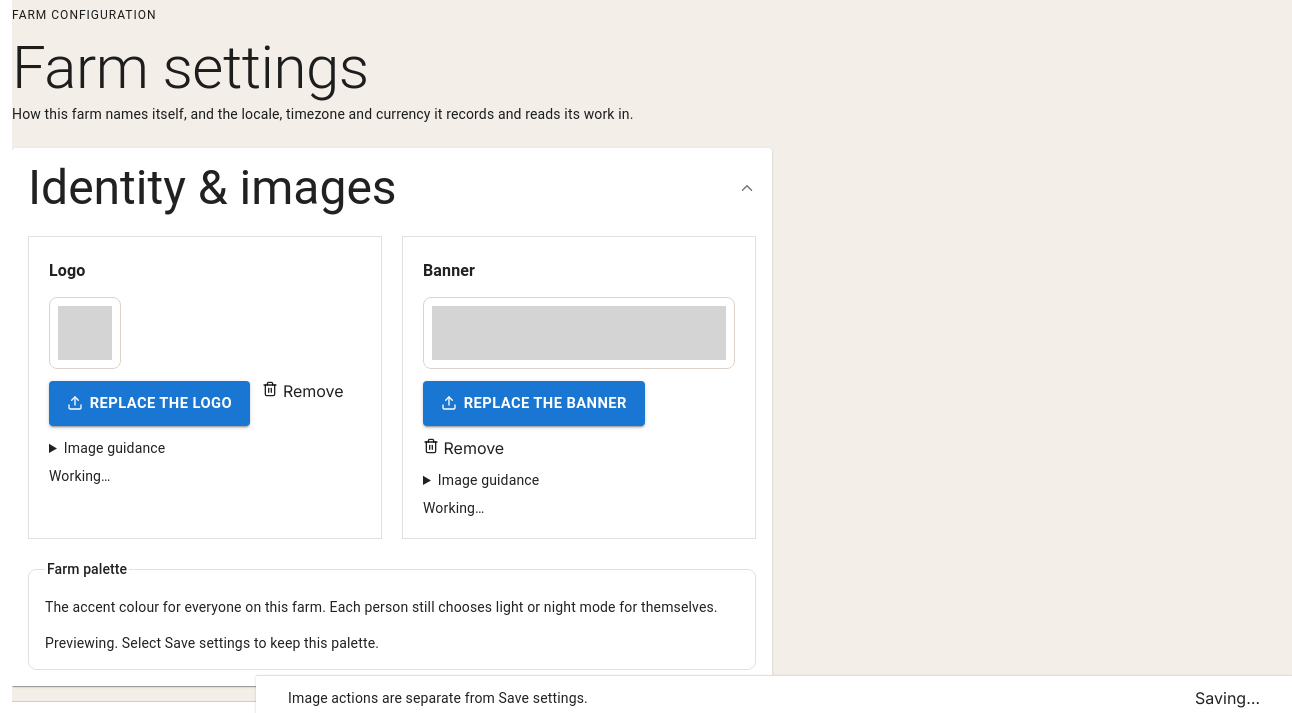
Test case: SettingsPage — persistent actions and image guidance › folds each image's existing help under a closed Image guidance disclosure
Click the 1st heading "Image guidance".
click(115, 448)  # box [64,440,165,456]
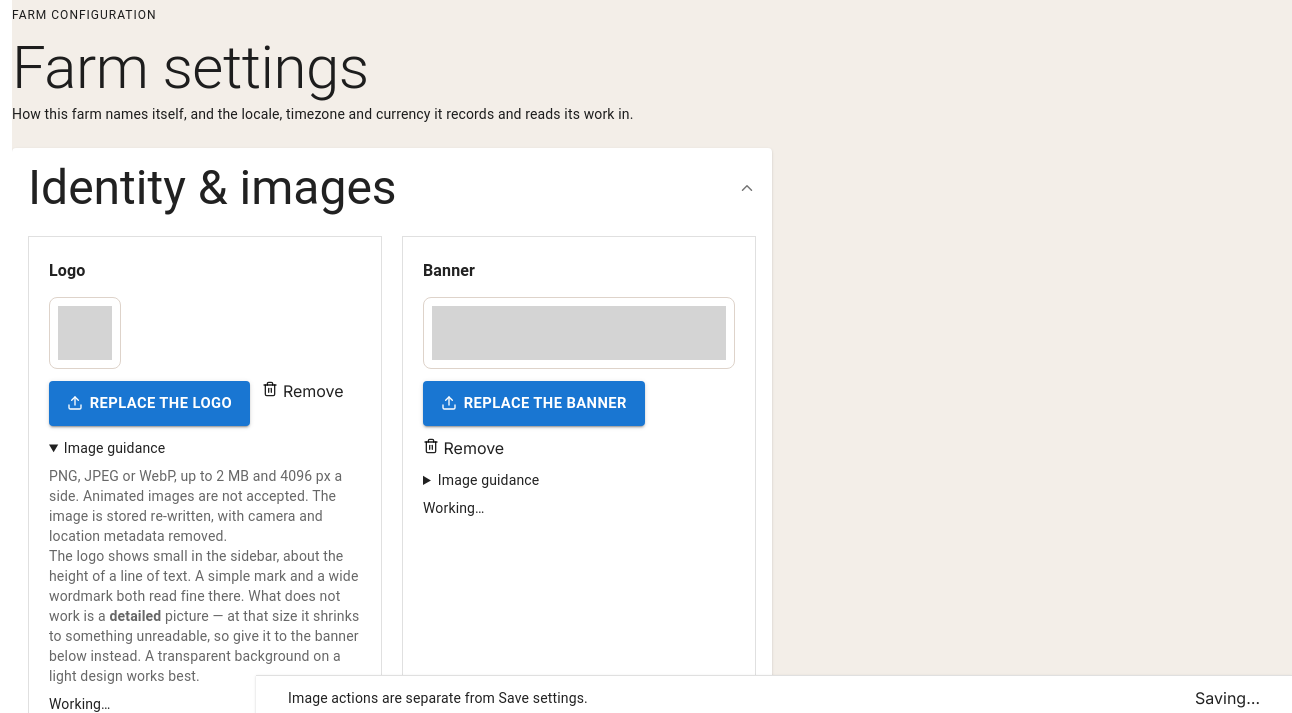
Expected: the text "up to 2 MB and 4096" is shown, [49,468,342,544]
Expected: the text "small in the sidebar" is shown, [49,548,358,624]
